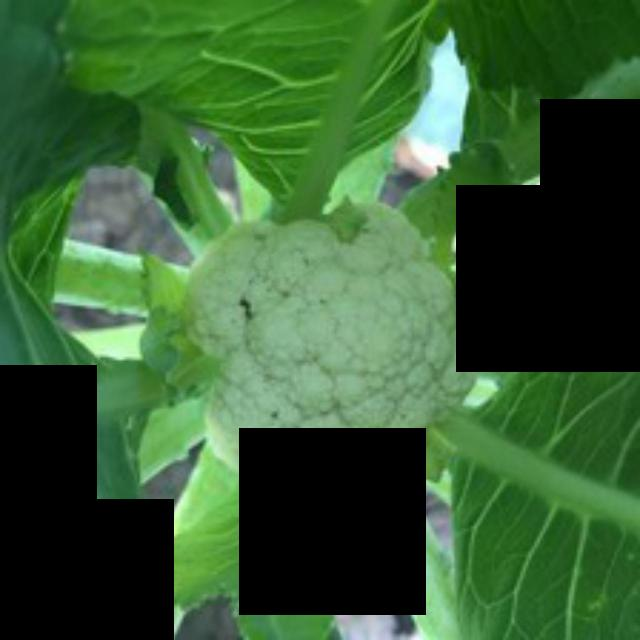cauliflower: (170, 185, 483, 507)
